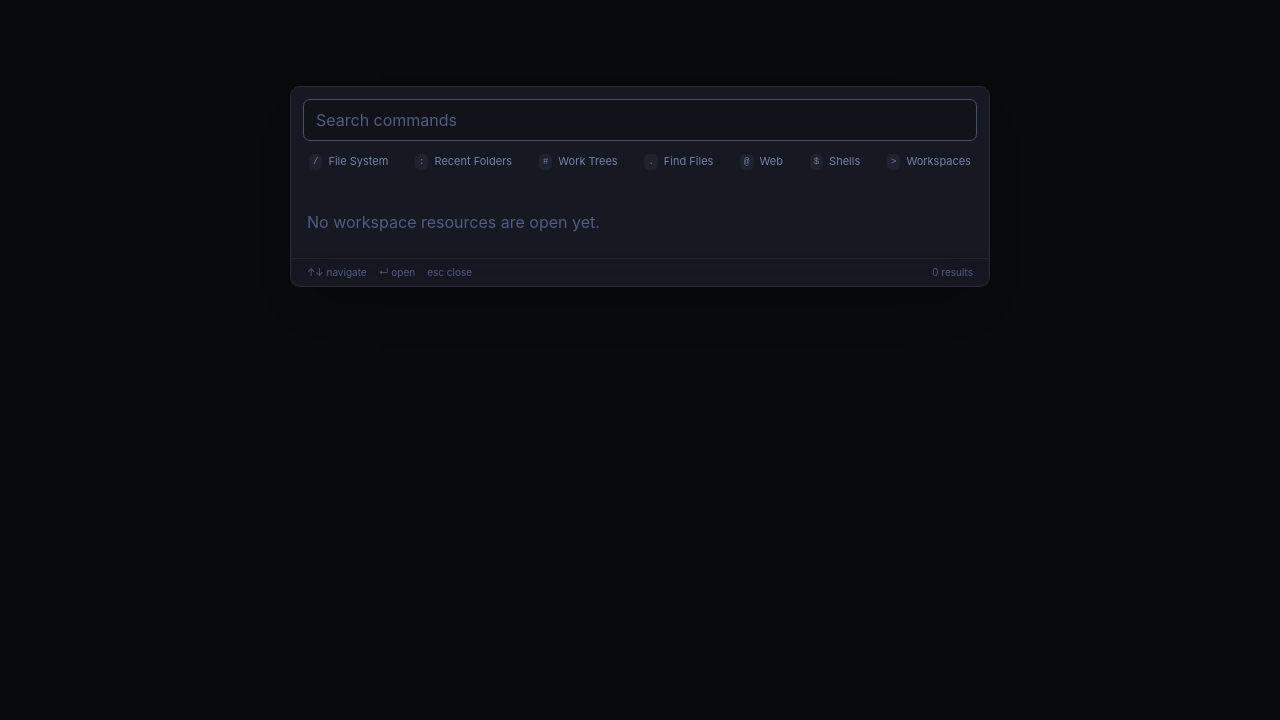
UniversalMenu baseline shell › searches command and scope rows without entering content search
In the field named "Universal menu search": coordinates (640, 120) [316,108,964,132], type "side"
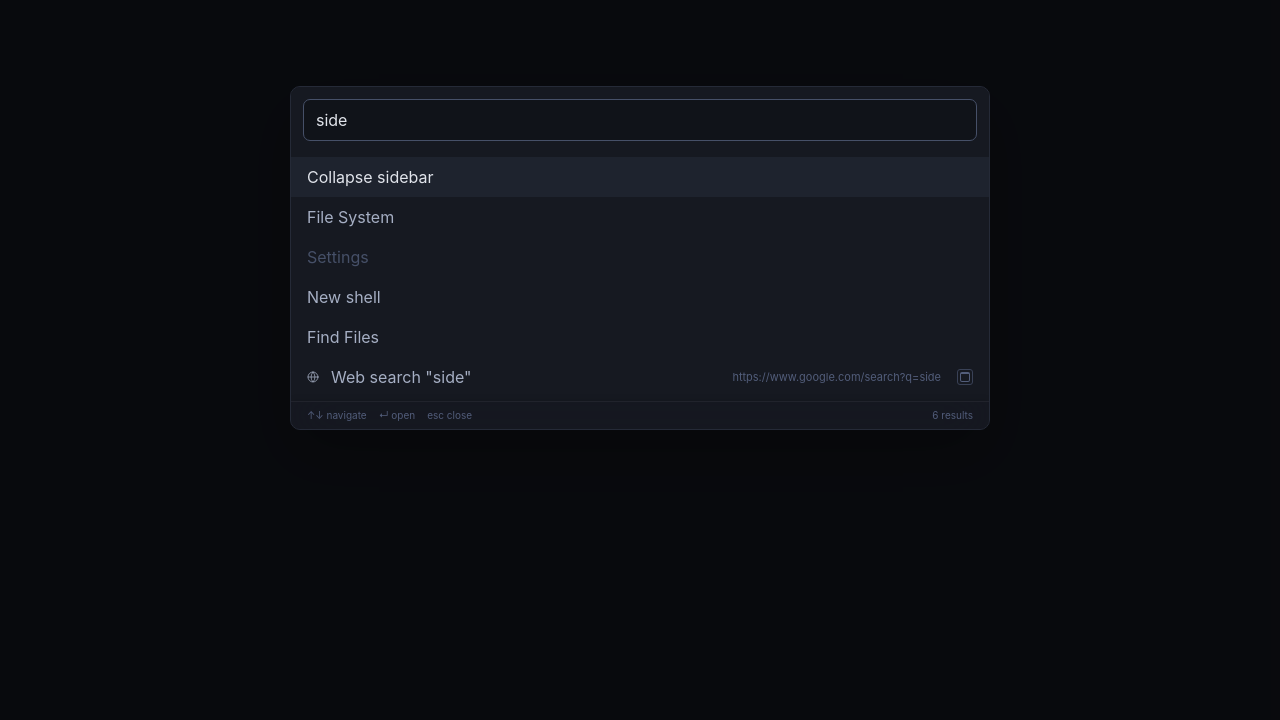
Expected: the text "Collapse sidebar" is shown, [307,167,434,187]
Expected: the button "Shells" is gone
